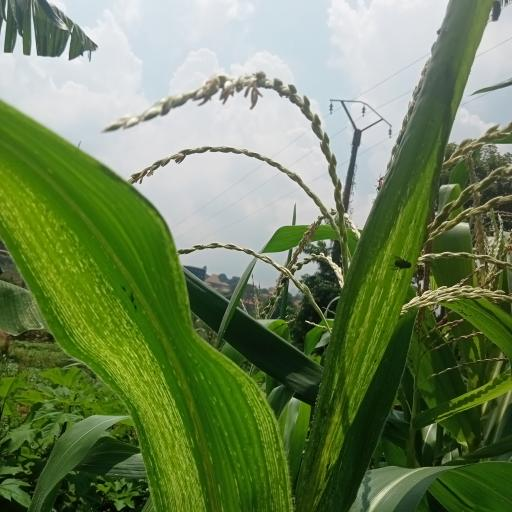Corn_Streak: (0, 93, 301, 512)
